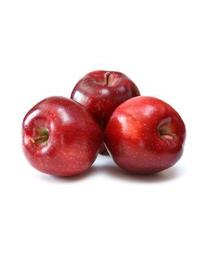apple: (22, 96, 103, 177), (103, 96, 186, 175), (69, 70, 140, 130)
